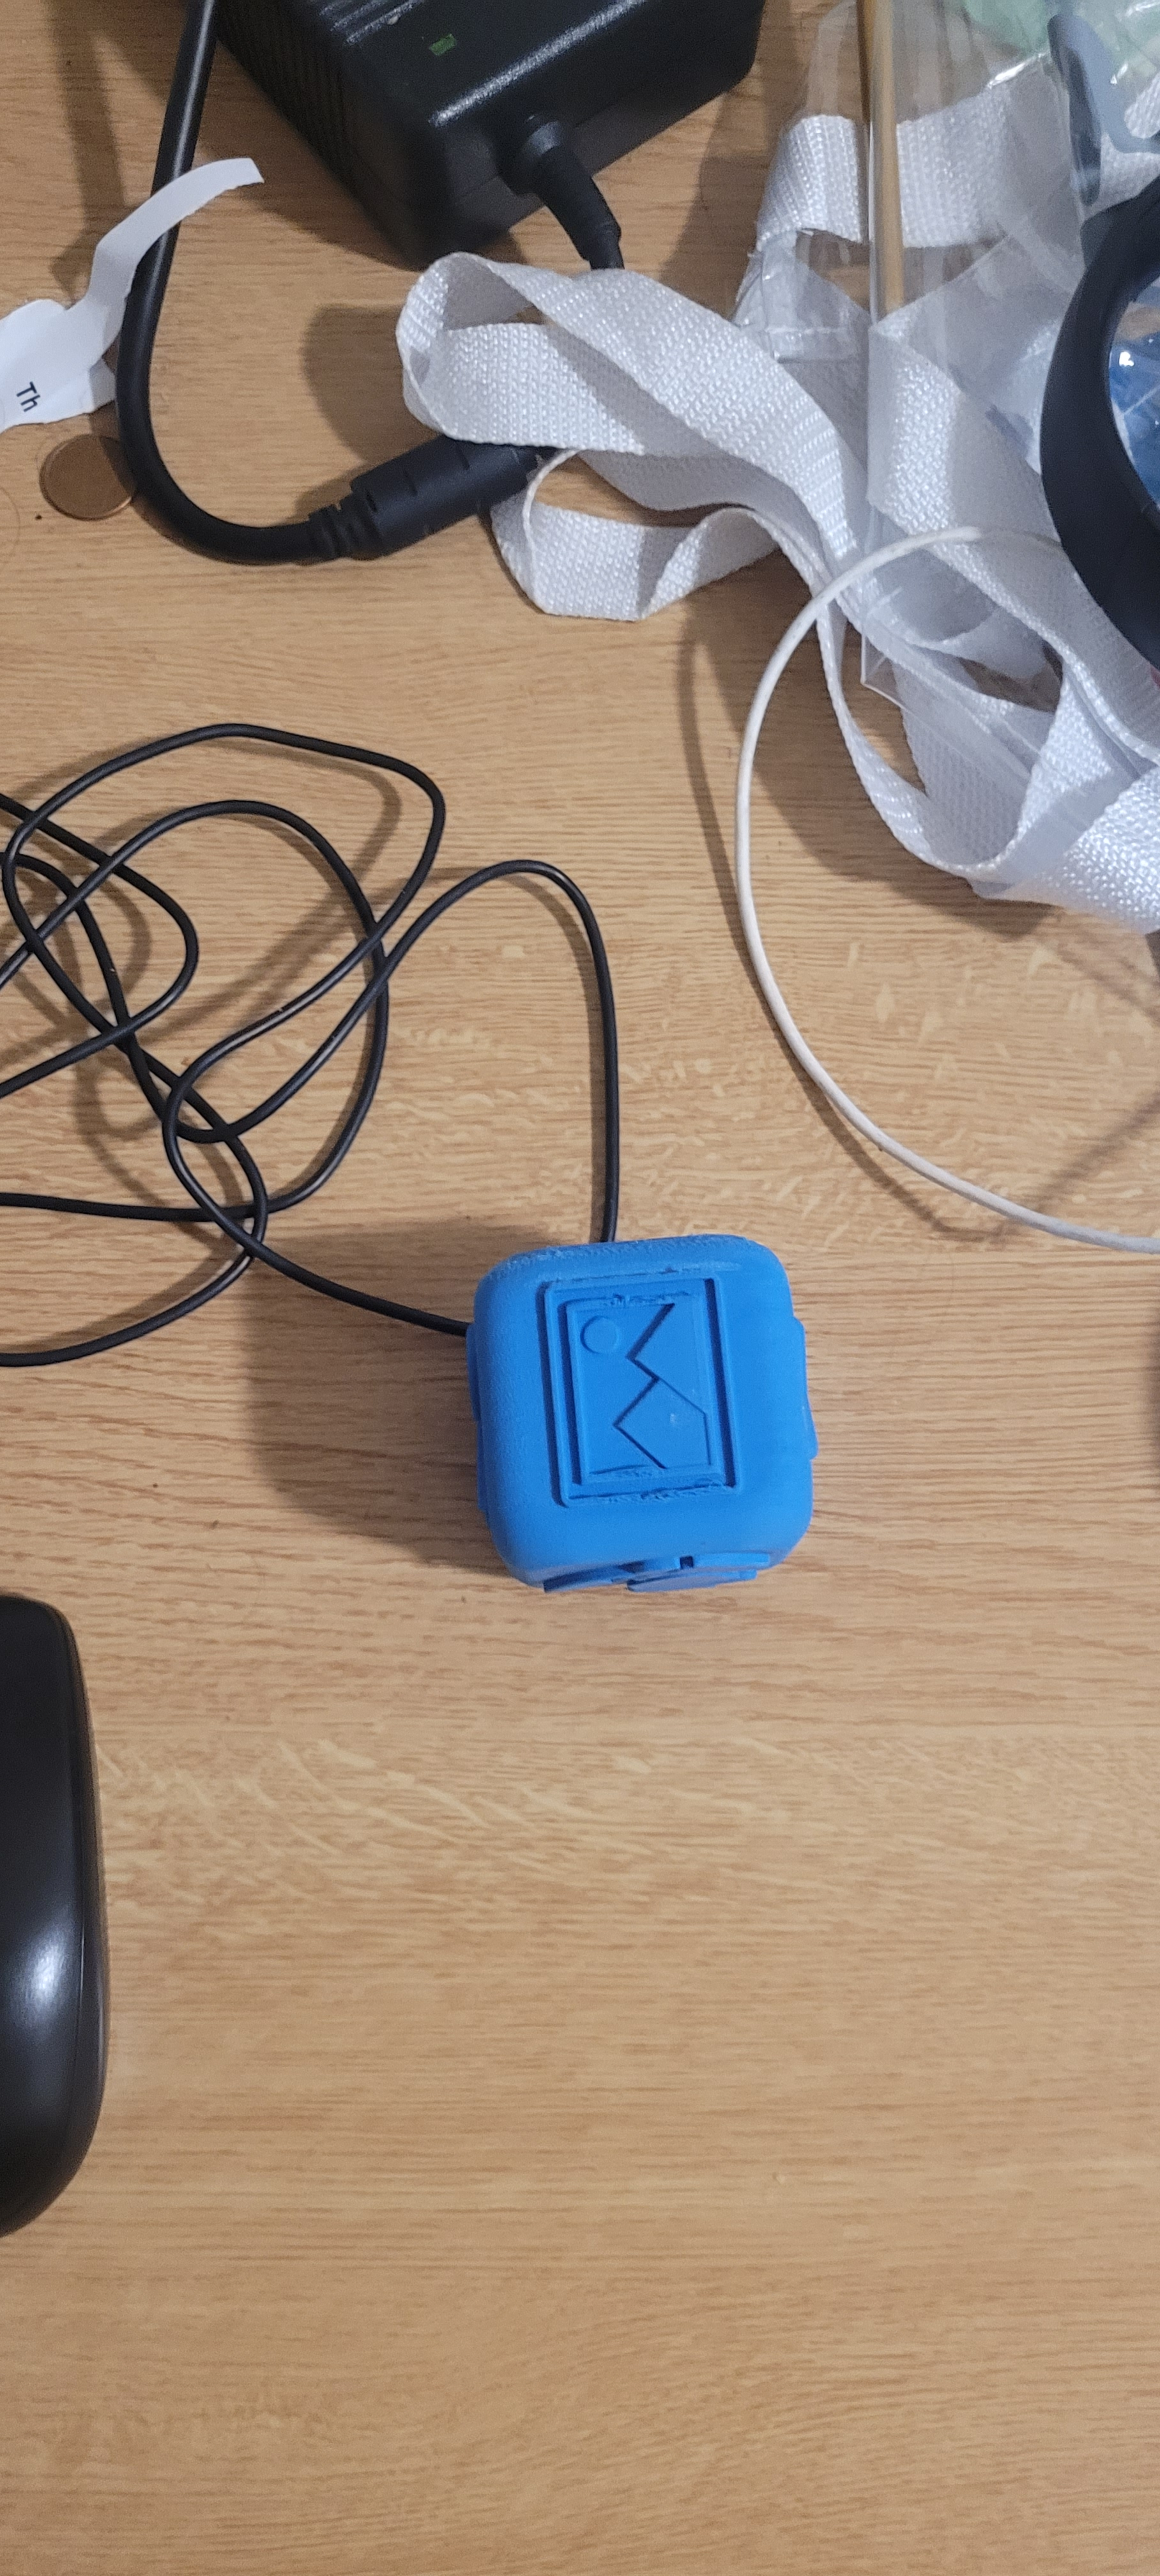Story: (522, 1216, 744, 1569)
